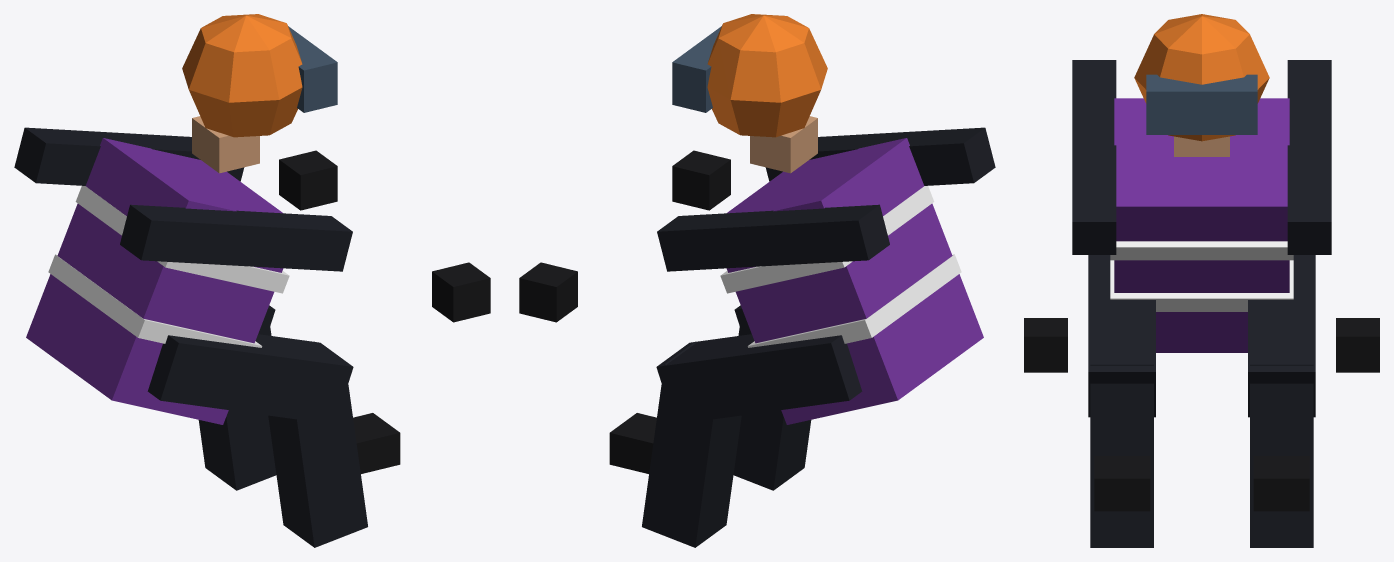
File: jetski_rider_atardecer.obj
The picture shows the model from 3 angles, left to right: view 1: azimuth 30°, elevation 25°; view 2: azimuth 150°, elevation 25°; view 3: azimuth 270°, elevation 25°; orthographic projection. The views are drawn at different scales.
Visible parts, largest first — view 1: jetski_rider_atardecer; view 2: jetski_rider_atardecer; view 3: jetski_rider_atardecer.
Boxes of the visible parts, x1,y1,x2,y2 form: jetski_rider_atardecer: [14, 14, 490, 547]; jetski_rider_atardecer: [519, 14, 995, 547]; jetski_rider_atardecer: [1024, 14, 1379, 547].
Bounding box in the file's own units: 0.9894 × 1.4 × 0.893.
